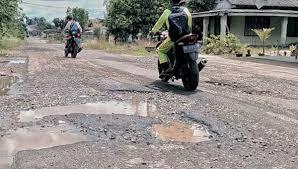Pothole: (0, 87, 179, 120), (1, 118, 90, 166), (202, 75, 287, 103), (145, 115, 220, 141), (0, 55, 36, 87)
